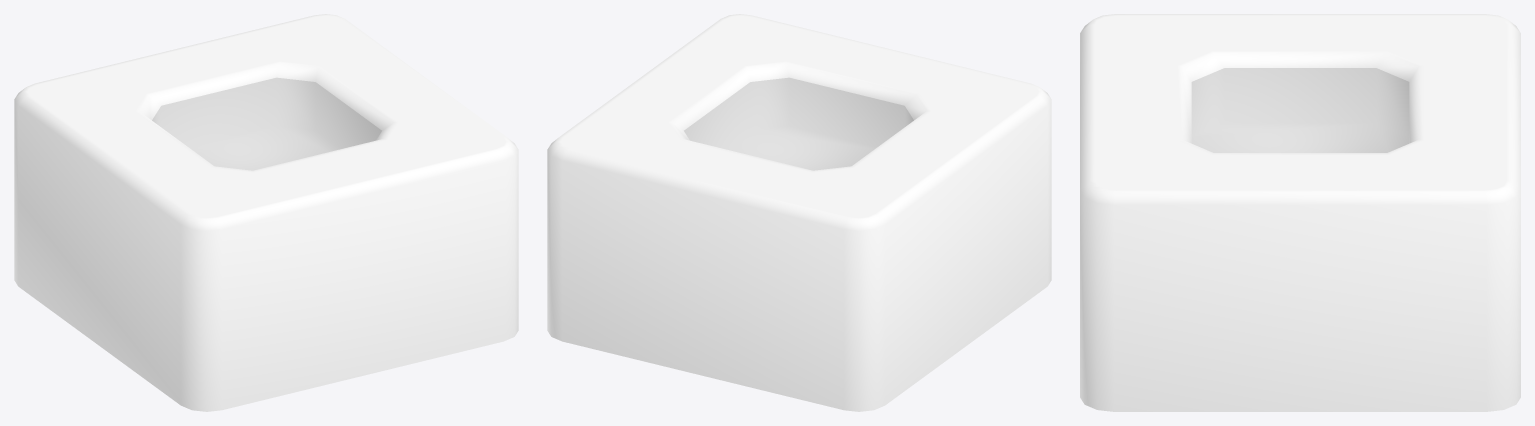
Rendered from cell_white.glb.
3 views of the same model, side by side, from view 1: azimuth 30°, elevation 25°; view 2: azimuth 150°, elevation 25°; view 3: azimuth 270°, elevation 25° (orthographic). The views are drawn at different scales.
Parts seen in each view (by area): view 1: cell_white; view 2: cell_white; view 3: cell_white.
Part boxes in pixels (<box>): cell_white: <box>14,14,518,411</box>; cell_white: <box>547,14,1051,411</box>; cell_white: <box>1080,14,1520,411</box>.
Bounding box in the file's own units: 1 × 0.54 × 1.
Materials: 1 (1 with a texture image).
